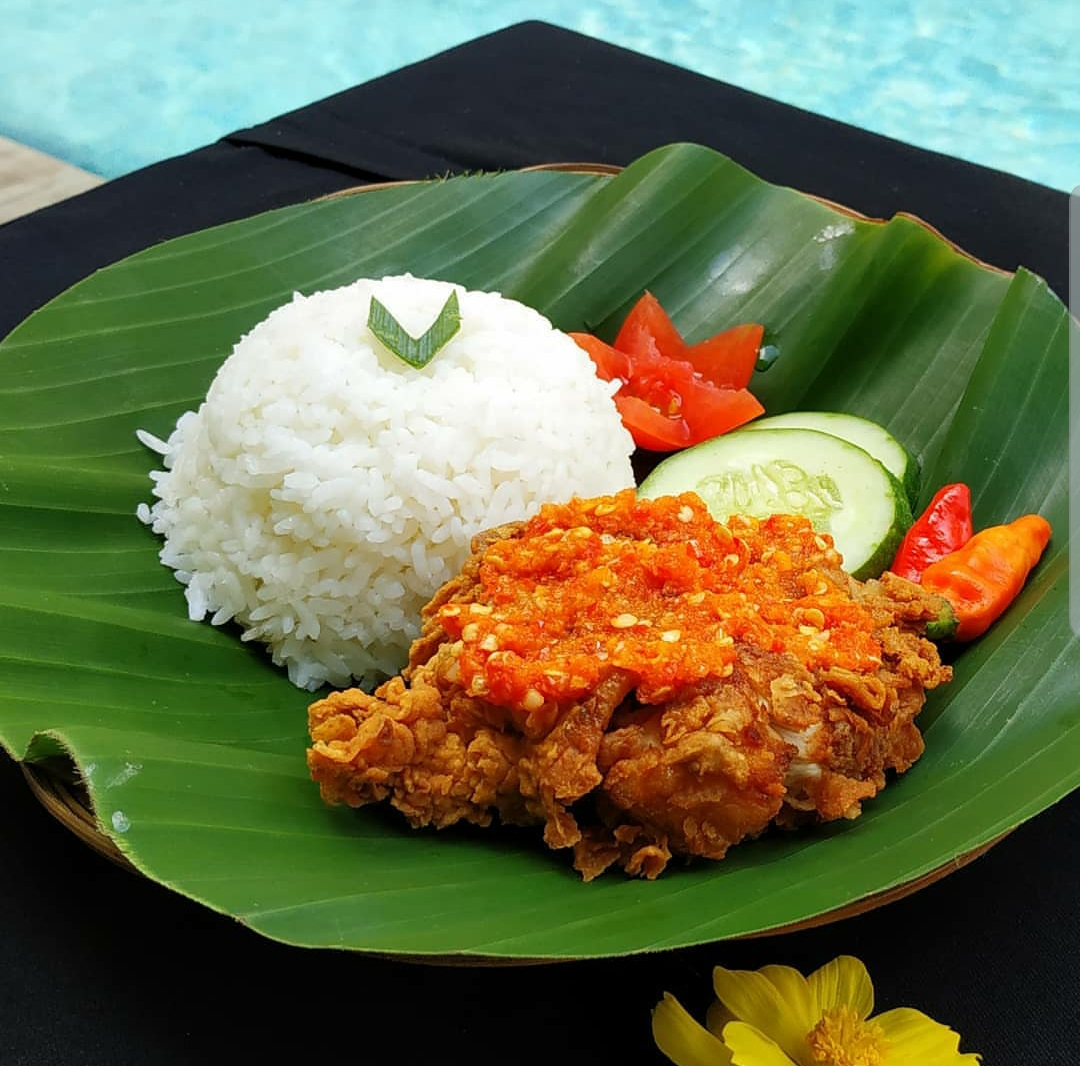ayam_geprek: (283, 465, 974, 867)
